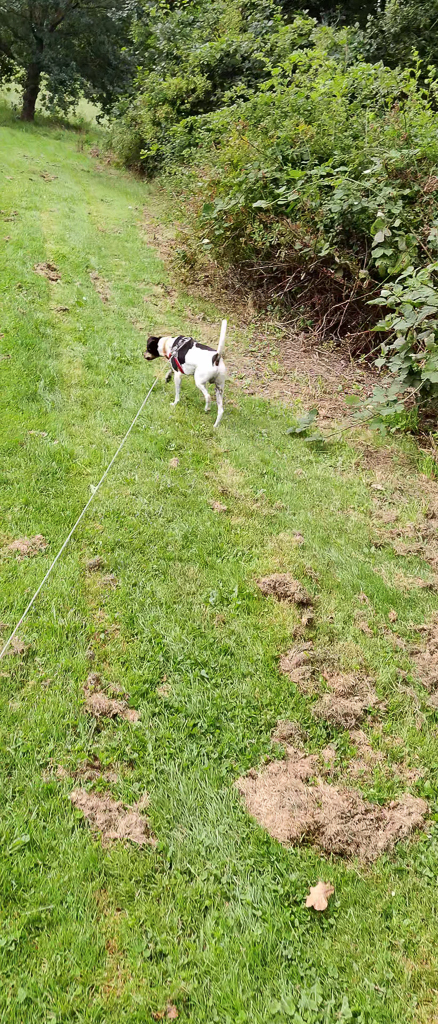Dog: (139, 312, 243, 433)
